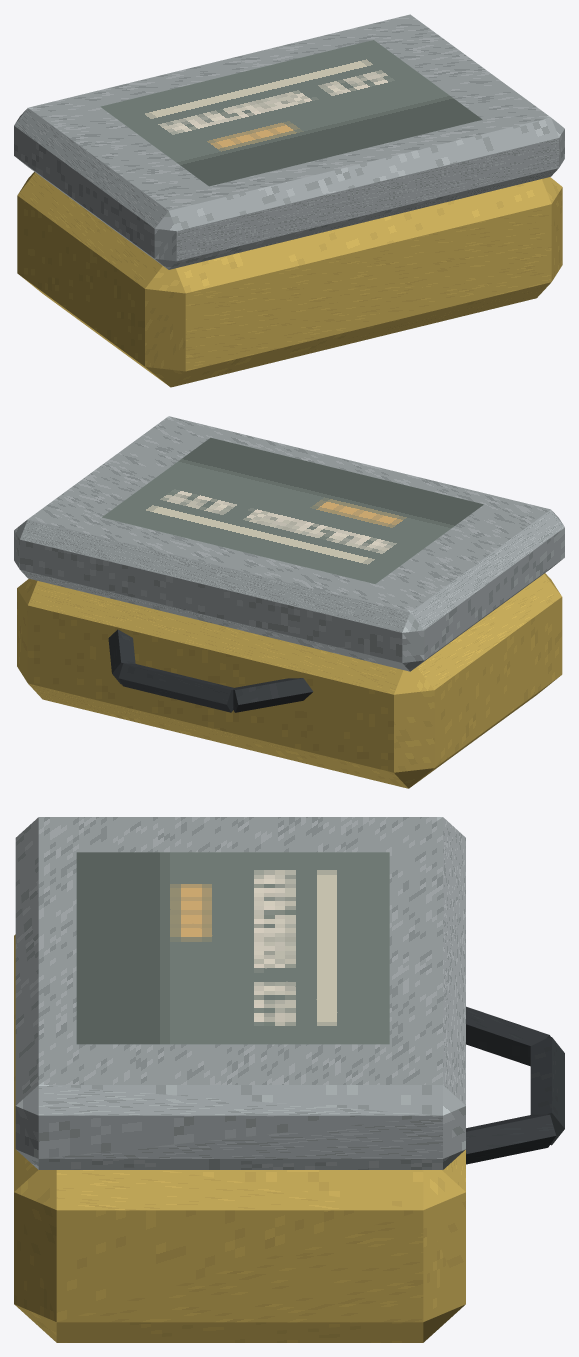
File: mobile_weather_station.glb
3 views of the same model, one above another, from view 1: azimuth 30°, elevation 25°; view 2: azimuth 150°, elevation 25°; view 3: azimuth 270°, elevation 25° (orthographic). The views are drawn at different scales.
Visible parts, largest first — view 1: block_rugged equipment case, block_removable lid, block_weather equipment legend; view 2: block_rugged equipment case, block_removable lid, block_weather equipment legend, block_handle 1, block_handle 0, block_handle 2; view 3: block_removable lid, block_rugged equipment case, block_weather equipment legend, block_handle 2, block_handle 1, block_handle 0.
Part boxes in pixels (x1=…): block_rugged equipment case: x1=17, y1=172, x2=562, y2=387; block_removable lid: x1=14, y1=14, x2=564, y2=269; block_weather equipment legend: x1=100, y1=40, x2=482, y2=186; block_rugged equipment case: x1=17, y1=573, x2=562, y2=788; block_removable lid: x1=14, y1=416, x2=564, y2=671; block_weather equipment legend: x1=102, y1=437, x2=483, y2=583; block_handle 1: x1=118, y1=663, x2=233, y2=712; block_handle 0: x1=233, y1=678, x2=313, y2=712; block_handle 2: x1=108, y1=629, x2=135, y2=684; block_removable lid: x1=15, y1=817, x2=465, y2=1169; block_rugged equipment case: x1=14, y1=934, x2=465, y2=1342; block_weather equipment legend: x1=76, y1=852, x2=389, y2=1044; block_handle 2: x1=466, y1=1114, x2=556, y2=1164; block_handle 1: x1=530, y1=1037, x2=564, y2=1145; block_handle 0: x1=466, y1=1006, x2=550, y2=1066.
Size of the model in its own units: 0.6 by 0.254 by 0.4773.
1 material, 1 textured.
